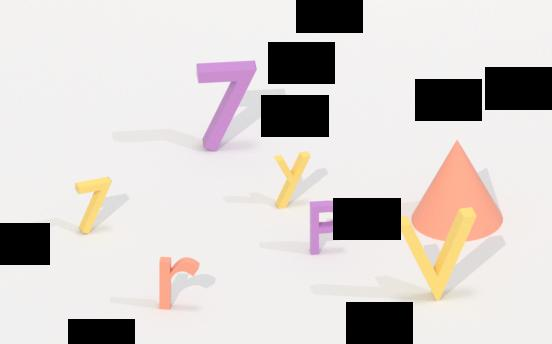7: (188, 58, 263, 154), (71, 176, 121, 236)
R: (156, 254, 206, 311)
Y: (270, 148, 315, 209)
non: (405, 146, 508, 241)
p: (306, 198, 350, 259)
v: (396, 214, 472, 303)
